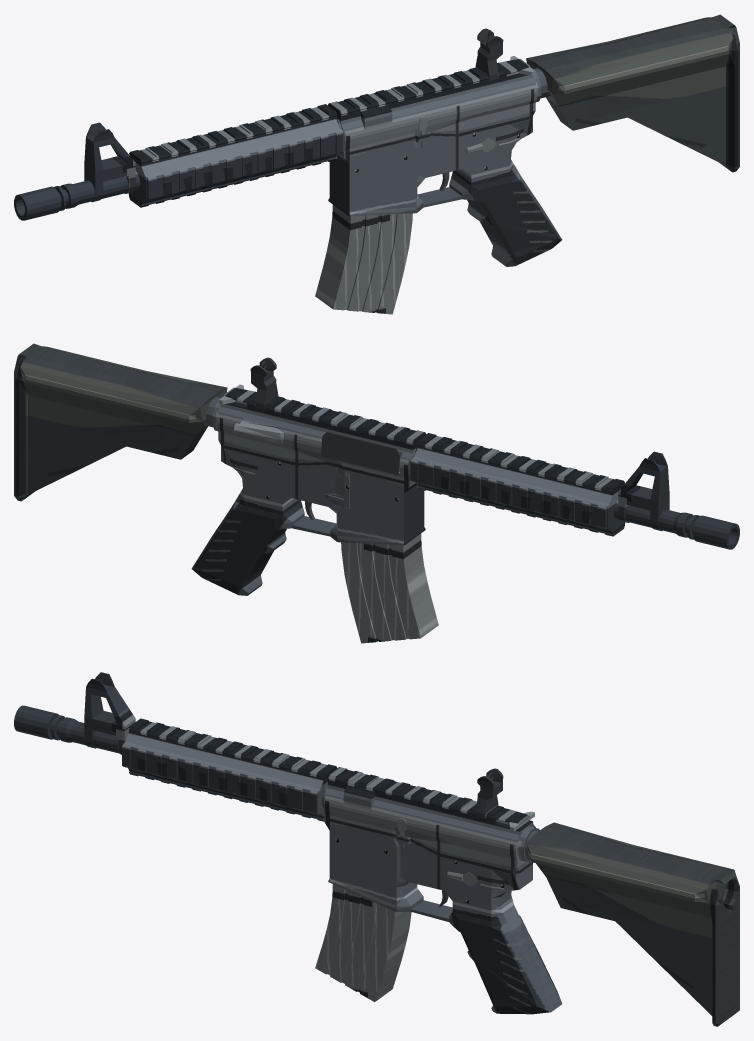
Rendered from m4a4_standard.glb.
The picture shows the model from 3 angles, top to bottom: view 1: azimuth 30°, elevation 25°; view 2: azimuth 150°, elevation 25°; view 3: azimuth 330°, elevation 25°; orthographic projection.
Parts seen in each view (by area): view 1: Main, Butt, Magazine, Sight; view 2: Main, Butt, Magazine, Gate, Sight; view 3: Main, Butt, Magazine, Sight.
Part boxes in pixels (bbox=[...]): Main: bbox=[14, 58, 562, 266]; Butt: bbox=[526, 14, 739, 172]; Magazine: bbox=[315, 204, 412, 314]; Sight: bbox=[475, 28, 503, 80]; Main: bbox=[191, 387, 739, 595]; Butt: bbox=[14, 343, 227, 501]; Magazine: bbox=[341, 533, 438, 643]; Gate: bbox=[321, 431, 400, 474]; Sight: bbox=[250, 357, 278, 409]; Main: bbox=[14, 672, 725, 1014]; Butt: bbox=[526, 822, 739, 1026]; Magazine: bbox=[315, 884, 411, 1002]; Sight: bbox=[475, 768, 503, 819].
Bounding box in the file's own units: 0.7724 × 0.2598 × 0.0627.
Materials: 8 (8 with a texture image).
